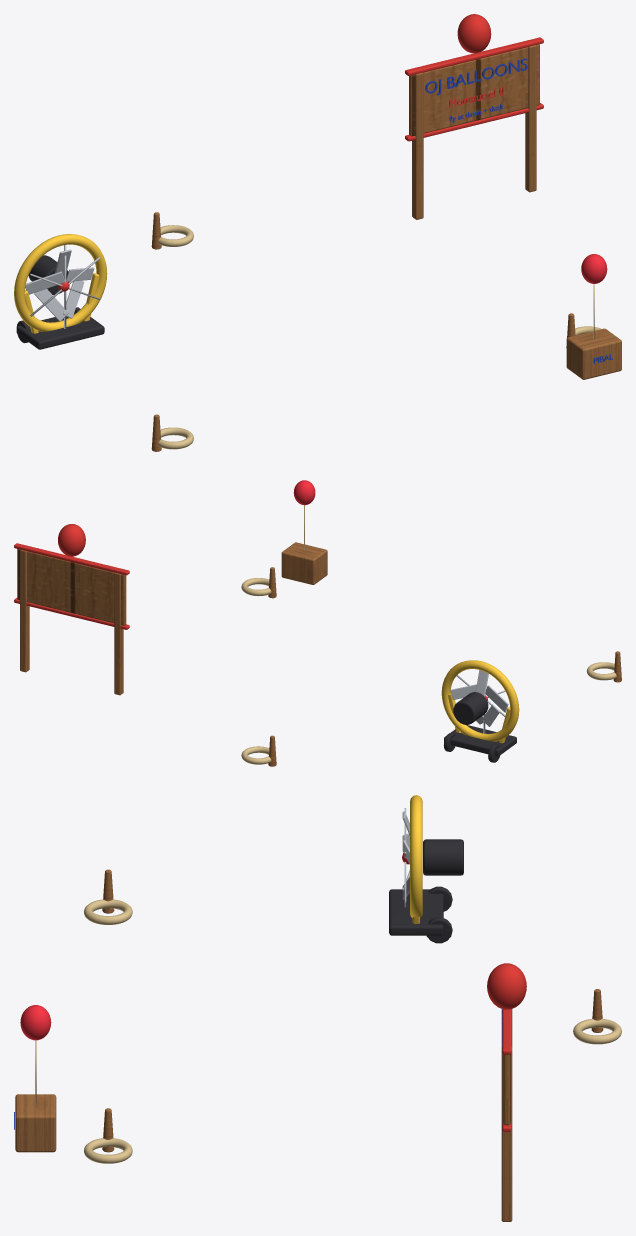
Rendered from balloonfield.glb.
3 renders of one model, top to bottom at view 1: azimuth 30°, elevation 25°; view 2: azimuth 150°, elevation 25°; view 3: azimuth 270°, elevation 25°, orthographic. The views are drawn at different scales.
Visible parts, largest first — view 1: bf_board, bf_cage, bf_crate, bf_post.001, bf_post, bf_fanbase, bf_ball, bf_trim, Text, bf_pibal, bf_trim.001; view 2: bf_board, bf_cage, bf_crate, bf_post, bf_post.001, bf_fanbase, bf_motor, bf_ball, bf_trim, bf_trim.001, bf_pibal; view 3: bf_crate, bf_fanbase, bf_cage, bf_post.001, bf_motor, bf_ball, bf_coil, bf_pibal, bf_coil.002, bf_coil.001.
Part boxes in pixels (x1,y1,x2,y2): bf_board: [409, 44, 539, 136]; bf_cage: [14, 234, 107, 331]; bf_crate: [566, 328, 621, 379]; bf_post.001: [525, 45, 536, 192]; bf_post: [412, 72, 423, 219]; bf_fanbase: [16, 313, 104, 349]; bf_ball: [457, 14, 491, 53]; bf_trim: [405, 37, 543, 75]; Text: [425, 58, 527, 95]; bf_pibal: [581, 254, 607, 283]; bf_trim.001: [405, 103, 543, 141]; bf_board: [17, 549, 126, 625]; bf_cage: [441, 660, 519, 741]; bf_crate: [281, 542, 327, 584]; bf_post: [114, 572, 123, 695]; bf_post.001: [20, 549, 29, 672]; bf_fanbase: [444, 725, 516, 756]; bf_motor: [453, 692, 488, 724]; bf_ball: [58, 524, 85, 556]; bf_trim: [14, 543, 129, 575]; bf_trim.001: [14, 598, 129, 629]; bf_pibal: [293, 480, 315, 505]; bf_crate: [15, 1094, 56, 1152]; bf_fanbase: [389, 889, 443, 935]; bf_cage: [410, 795, 422, 917]; bf_post.001: [501, 1046, 512, 1221]; bf_motor: [423, 839, 463, 875]; bf_ball: [487, 963, 526, 1009]; bf_coil: [573, 1019, 621, 1044]; bf_pibal: [20, 1005, 51, 1040]; bf_coil.002: [84, 1138, 132, 1163]; bf_coil.001: [84, 899, 132, 924].
Bounding box in the file's own units: 8.51 × 2.76 × 6.71.
Materials: 9 (2 with a texture image).
